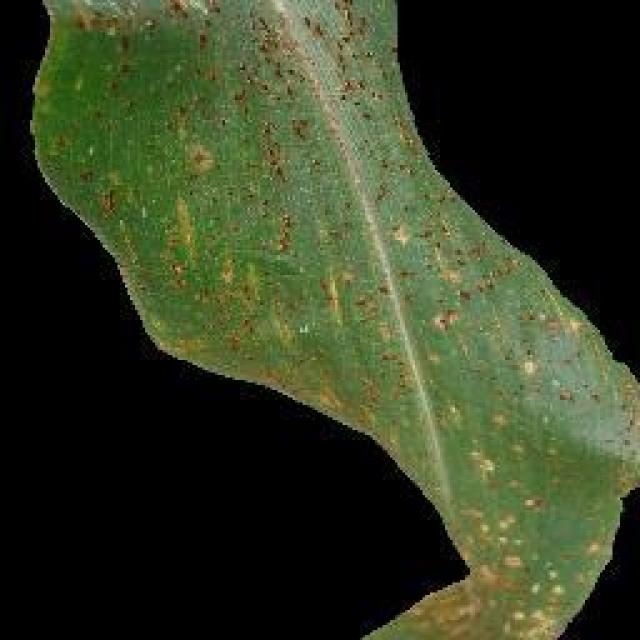Corn Common Rust: (111, 33, 602, 627)
